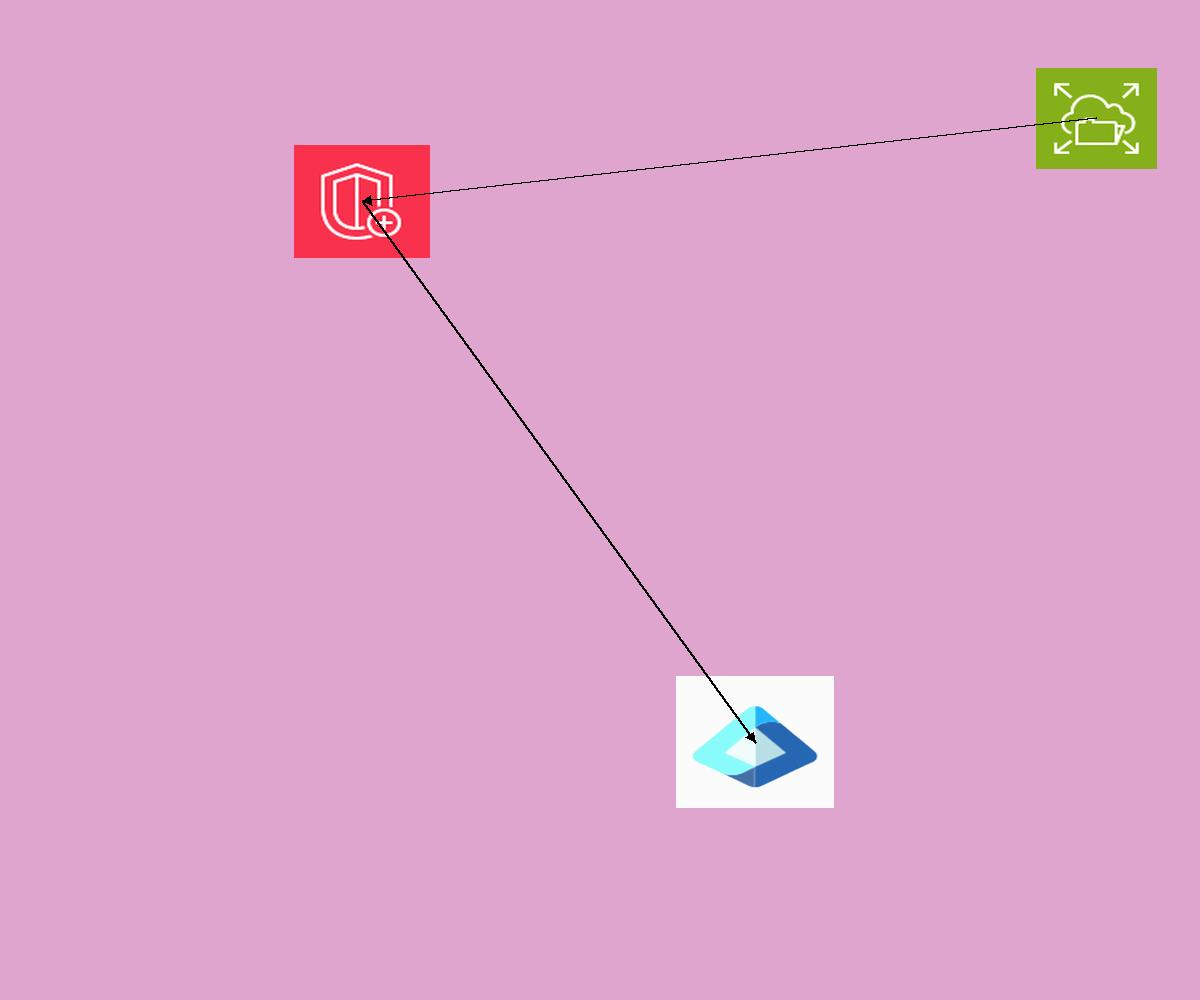AWS-EFS: (1036, 68, 1157, 169)
AWS-Shield: (294, 145, 430, 258)
Azure_microsoft_entra: (676, 676, 834, 808)
